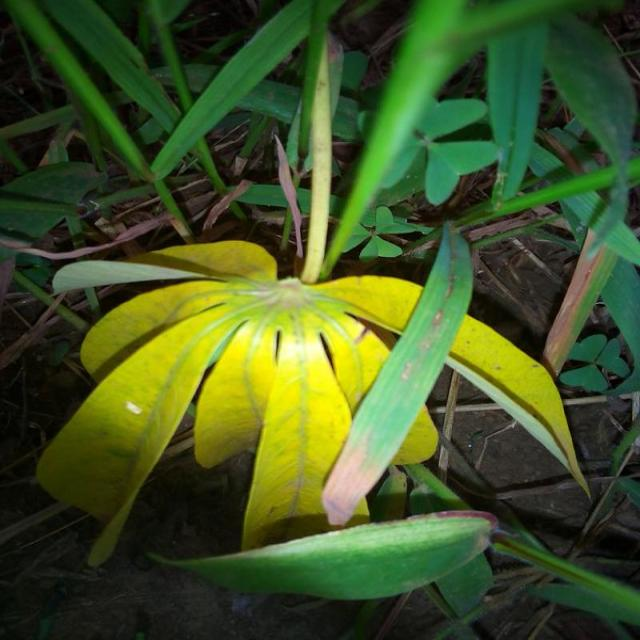cassava leaf: (37, 229, 588, 573)
